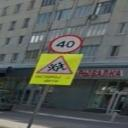speed_limit_40: (48, 33, 85, 55)
